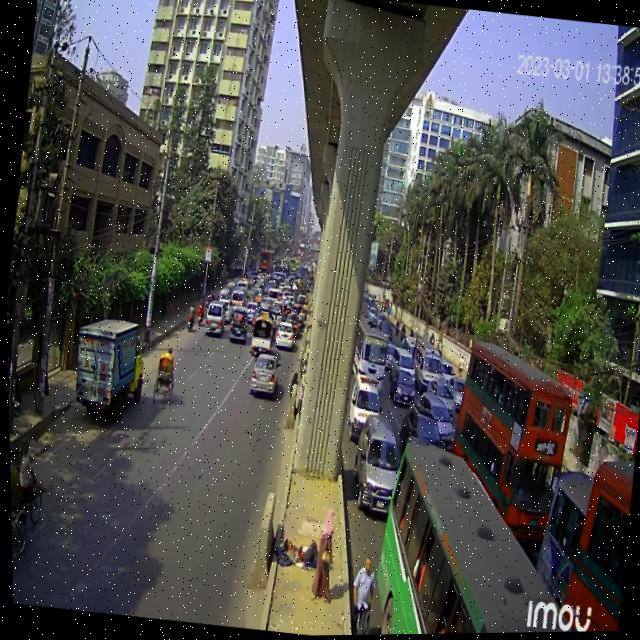rikshaw: (8, 438, 47, 549), (147, 336, 179, 417)
